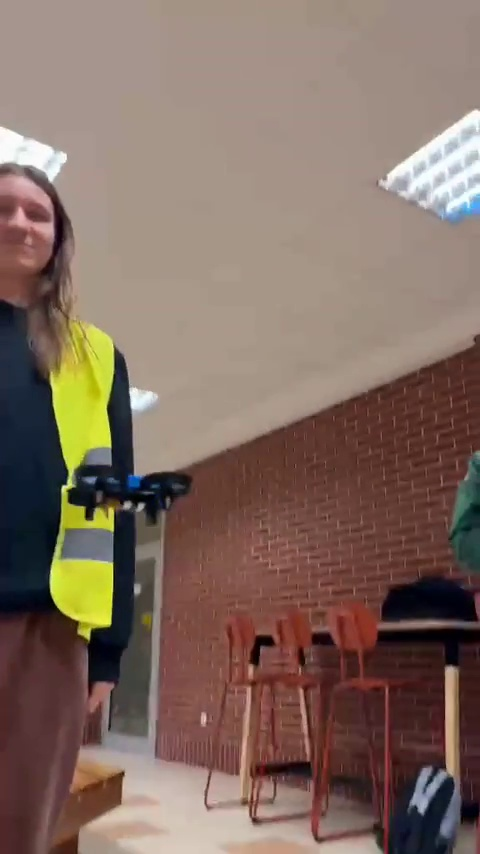drone: (71, 467, 185, 520)
vest: (0, 162, 143, 854)
